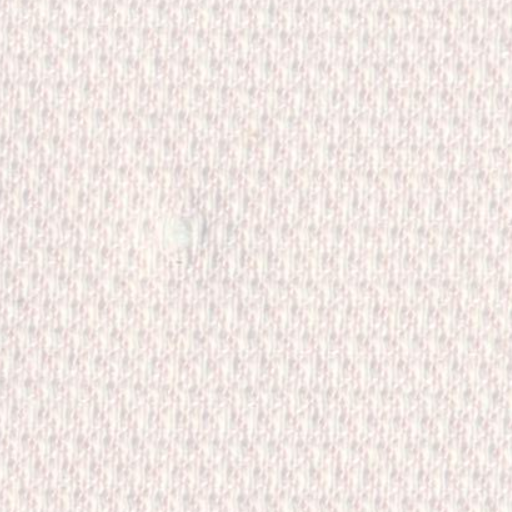MianQiu: (128, 183, 244, 296)
